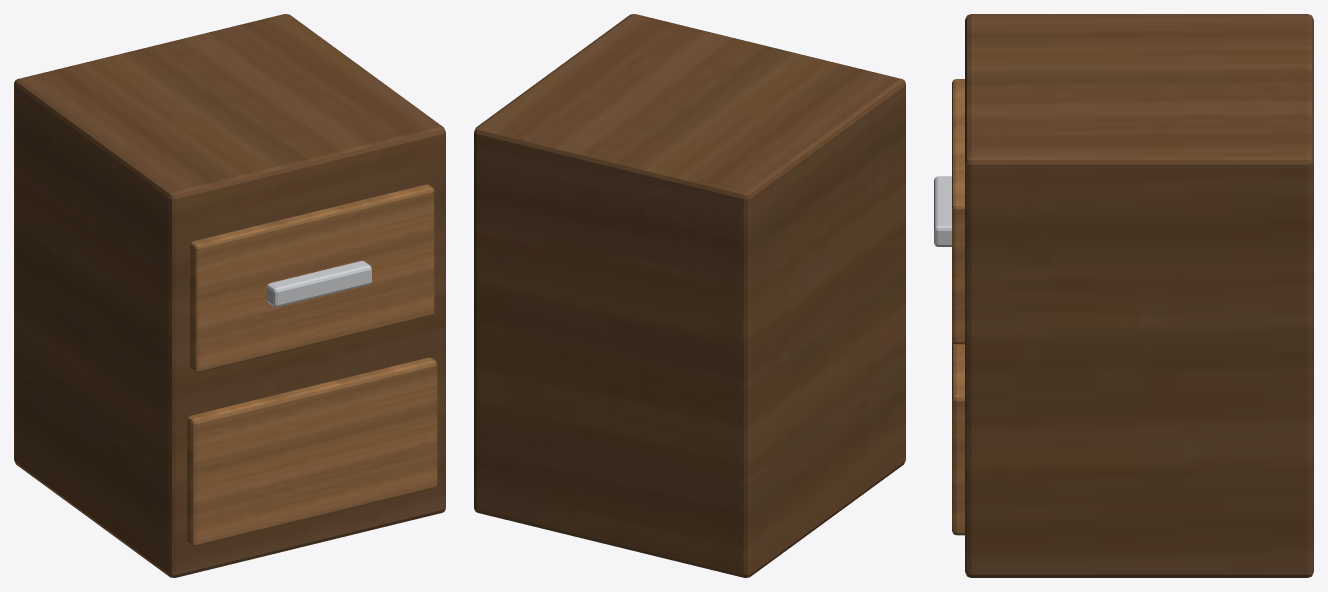
File: file_cabinet.glb
3 renders of one model, left to right at view 1: azimuth 30°, elevation 25°; view 2: azimuth 150°, elevation 25°; view 3: azimuth 270°, elevation 25°, orthographic. The views are drawn at different scales.
Parts seen in each view (by area): view 1: body.003, front_lower, part_drawer__file_cabinet; view 2: body.003; view 3: body.003, part_drawer__file_cabinet, front_lower.
Boxes of the visible parts, bbox=[...] form: body.003: bbox=[14, 14, 445, 577]; front_lower: bbox=[187, 357, 437, 547]; part_drawer__file_cabinet: bbox=[190, 184, 434, 373]; body.003: bbox=[474, 14, 905, 577]; body.003: bbox=[965, 14, 1313, 577]; part_drawer__file_cabinet: bbox=[934, 79, 964, 344]; front_lower: bbox=[952, 341, 964, 535].
Size of the model in its own units: 0.45 by 0.6 by 0.49.
4 materials, 3 textured.
